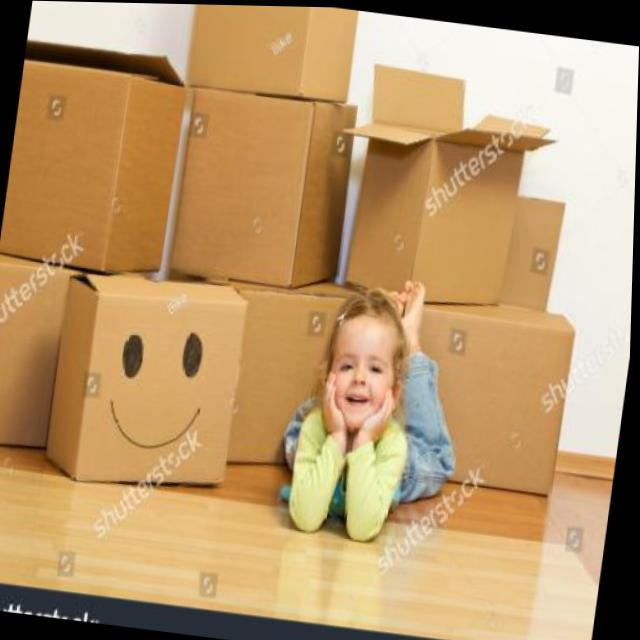box: (321, 42, 577, 322), (43, 260, 262, 501), (0, 24, 199, 287), (165, 78, 366, 305), (404, 289, 581, 497), (225, 264, 360, 500), (185, 3, 372, 100), (0, 247, 81, 462), (500, 174, 569, 313)
